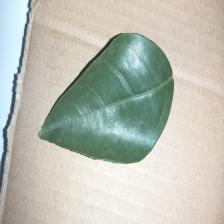healthy: (36, 30, 191, 176)
